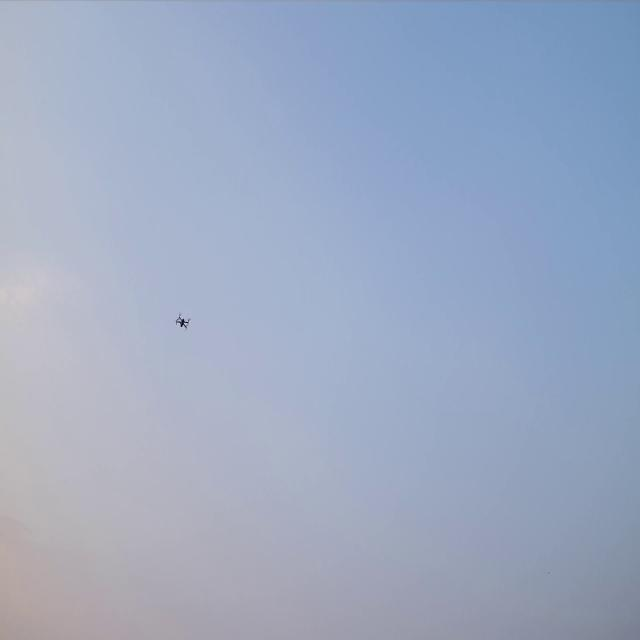UAV: (173, 312, 192, 331)
